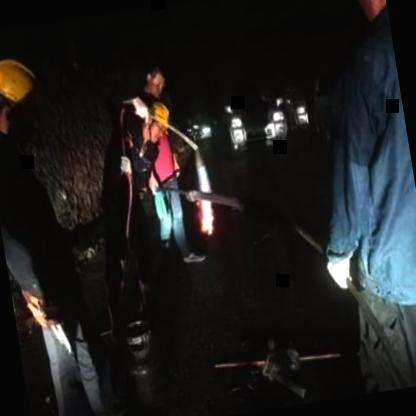head: (138, 58, 172, 100)
helmet: (0, 49, 45, 135), (140, 96, 176, 150)
